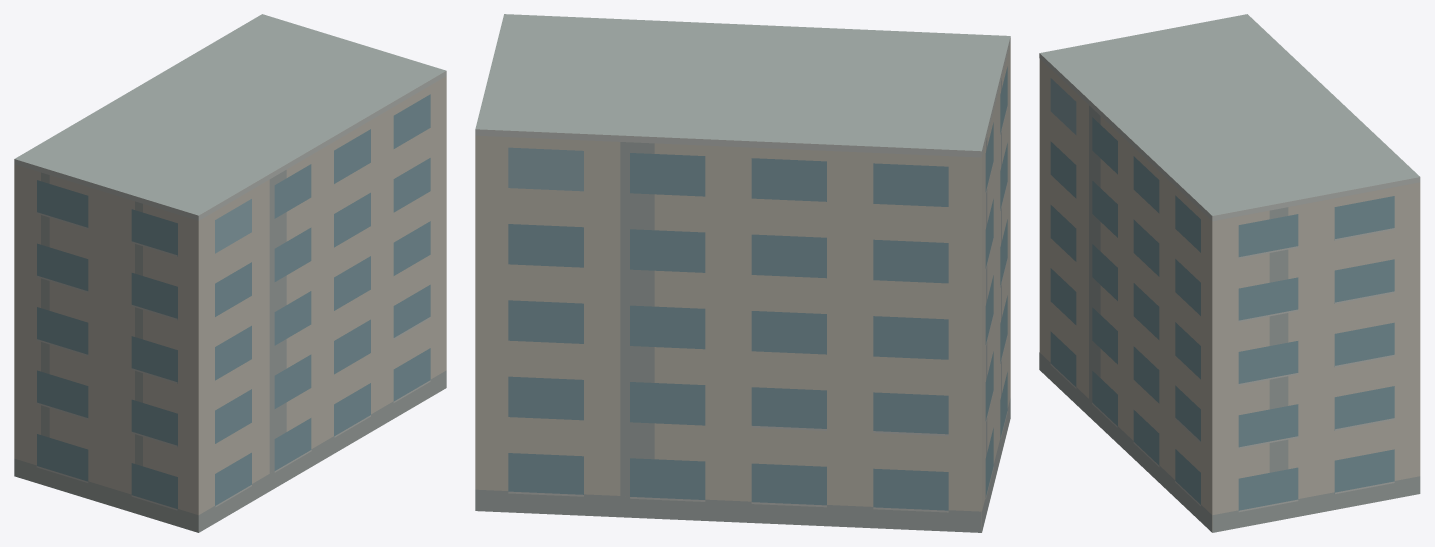
Rendered from survey-upis-32758093.glb.
3 views of the same model, side by side, from view 1: azimuth 30°, elevation 25°; view 2: azimuth 150°, elevation 25°; view 3: azimuth 270°, elevation 25° (orthographic). The views are drawn at different scales.
Visible parts, largest first — view 1: survey-upis-32758093.tmp; view 2: survey-upis-32758093.tmp; view 3: survey-upis-32758093.tmp.
Boxes of the visible parts, box(x1,y1,x2,y2) form: survey-upis-32758093.tmp: box(14, 14, 446, 532); survey-upis-32758093.tmp: box(475, 14, 1010, 532); survey-upis-32758093.tmp: box(1039, 14, 1420, 532).
Bounding box in the file's own units: 19.98 × 14.6 × 15.92.
